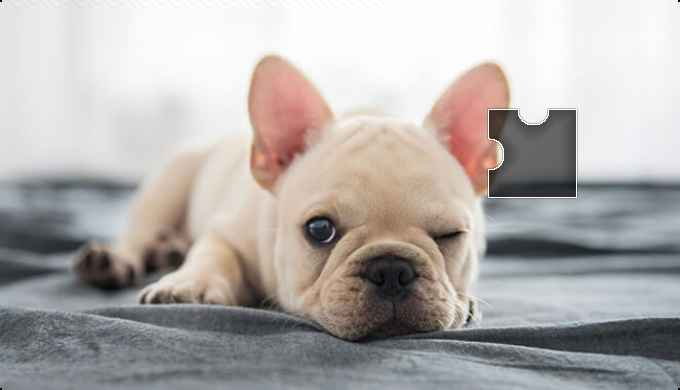gap: (489, 111, 575, 197)
